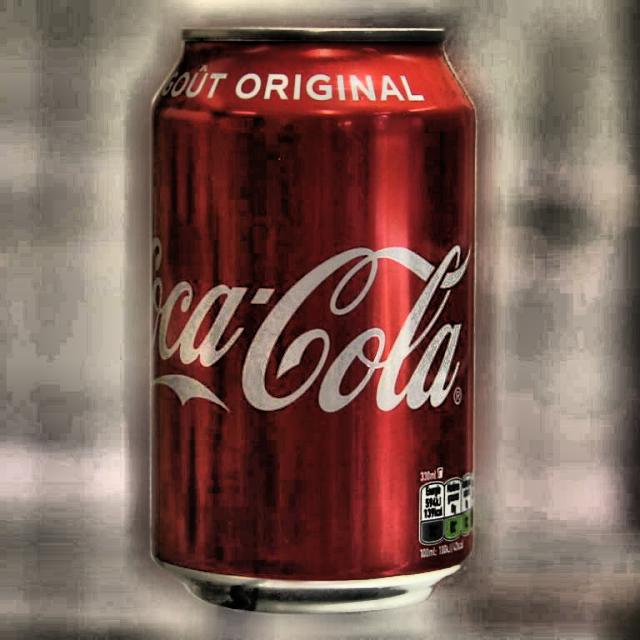Cans: (153, 14, 479, 612)
